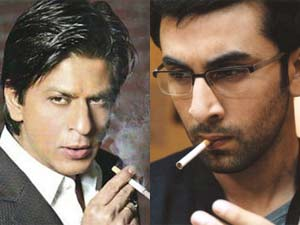cigarette: (108, 164, 154, 200), (171, 136, 213, 169)
